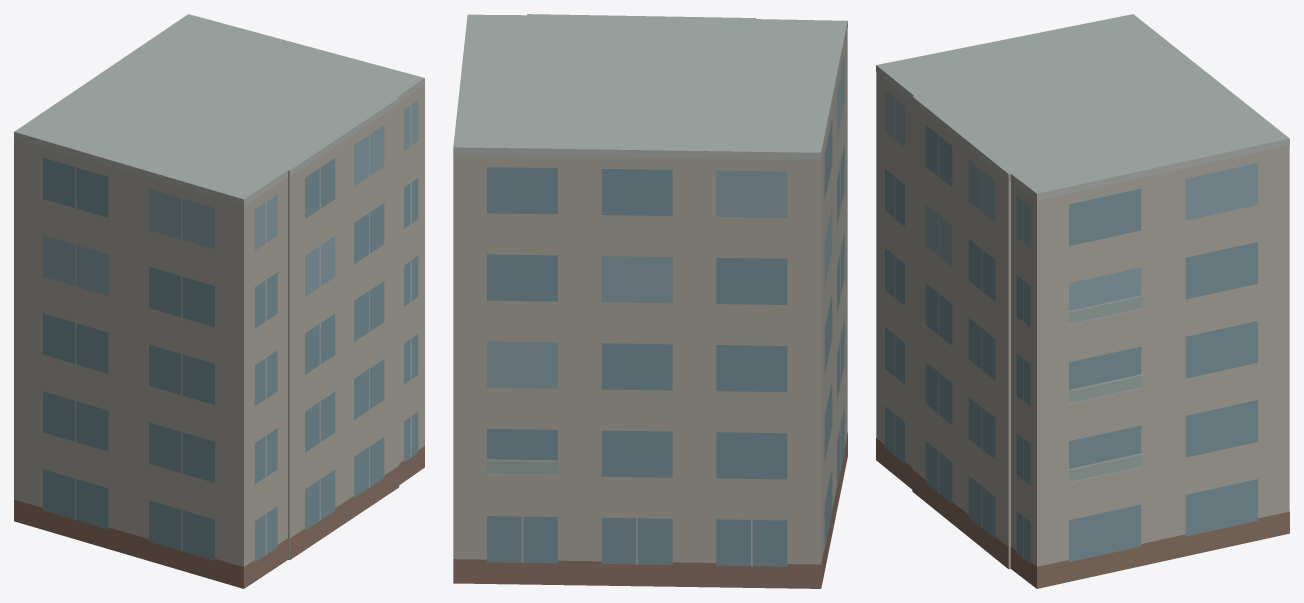
File: survey-upis-32671904.glb
3 views of the same model, side by side, from view 1: azimuth 30°, elevation 25°; view 2: azimuth 150°, elevation 25°; view 3: azimuth 270°, elevation 25° (orthographic). The views are drawn at different scales.
Parts seen in each view (by area): view 1: survey-upis-32671904.tmp; view 2: survey-upis-32671904.tmp; view 3: survey-upis-32671904.tmp.
Part boxes in pixels (x1,y1,x2,y2): survey-upis-32671904.tmp: [14, 14, 424, 588]; survey-upis-32671904.tmp: [453, 14, 847, 588]; survey-upis-32671904.tmp: [876, 14, 1289, 588].
Bounding box in the file's own units: 13.87 × 14.2 × 13.48.
